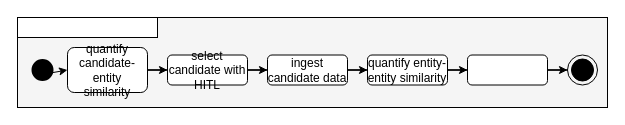
Some shapes in this 625 by 125 pixel diagram are drawn without their labels. Here are the shapes that lost their labels. From the top down, the centre of each, then its label:
point (87, 27): P3) Data consolidation
point (507, 69): merge entities with HITL
